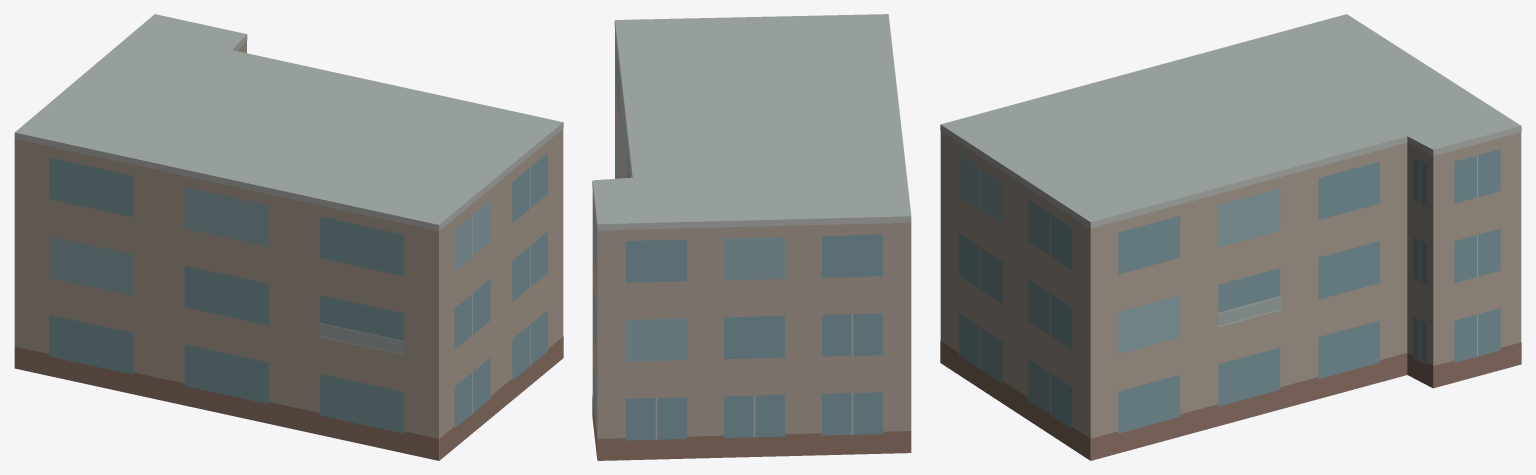
Rendered from survey-upis-32506555.glb.
The picture shows the model from 3 angles, left to right: view 1: azimuth 30°, elevation 25°; view 2: azimuth 150°, elevation 25°; view 3: azimuth 270°, elevation 25°; orthographic projection.
Parts seen in each view (by area): view 1: survey-upis-32506555.tmp; view 2: survey-upis-32506555.tmp; view 3: survey-upis-32506555.tmp.
Boxes of the visible parts, box(x1,y1,x2,y2) form: survey-upis-32506555.tmp: box(14, 14, 563, 460); survey-upis-32506555.tmp: box(592, 14, 911, 460); survey-upis-32506555.tmp: box(940, 14, 1521, 460).
Size of the model in its own units: 17.15 by 9.15 by 20.2.
